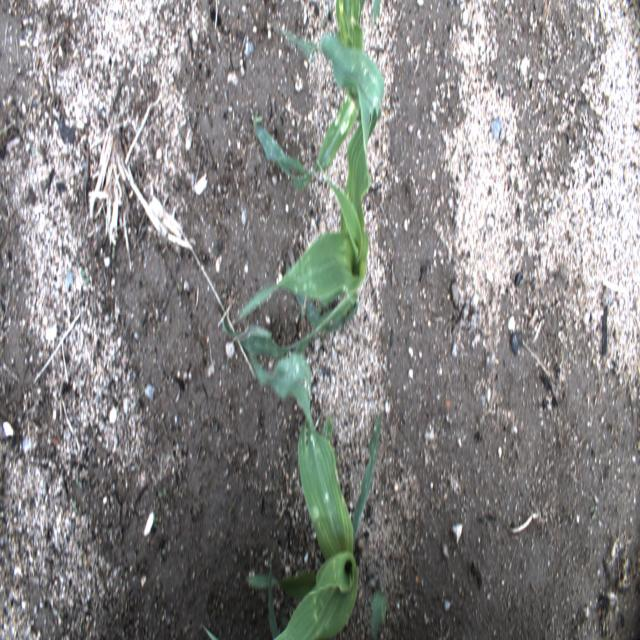crop: (222, 28, 386, 360), (203, 348, 389, 639), (253, 1, 383, 190)
weed: (250, 106, 264, 130), (228, 497, 236, 522), (156, 486, 168, 499), (80, 270, 90, 285), (152, 514, 160, 530), (589, 504, 596, 520), (539, 51, 546, 66), (110, 244, 116, 261), (75, 476, 82, 489), (73, 498, 78, 515), (140, 384, 146, 396), (274, 483, 279, 497), (225, 356, 229, 372), (197, 502, 200, 511)
